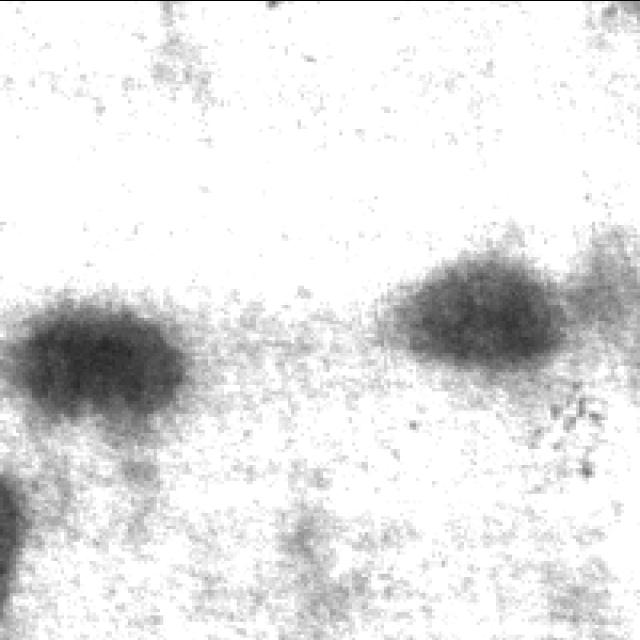patches: (2, 291, 188, 461), (362, 244, 572, 378), (547, 211, 640, 429), (0, 454, 42, 620)
